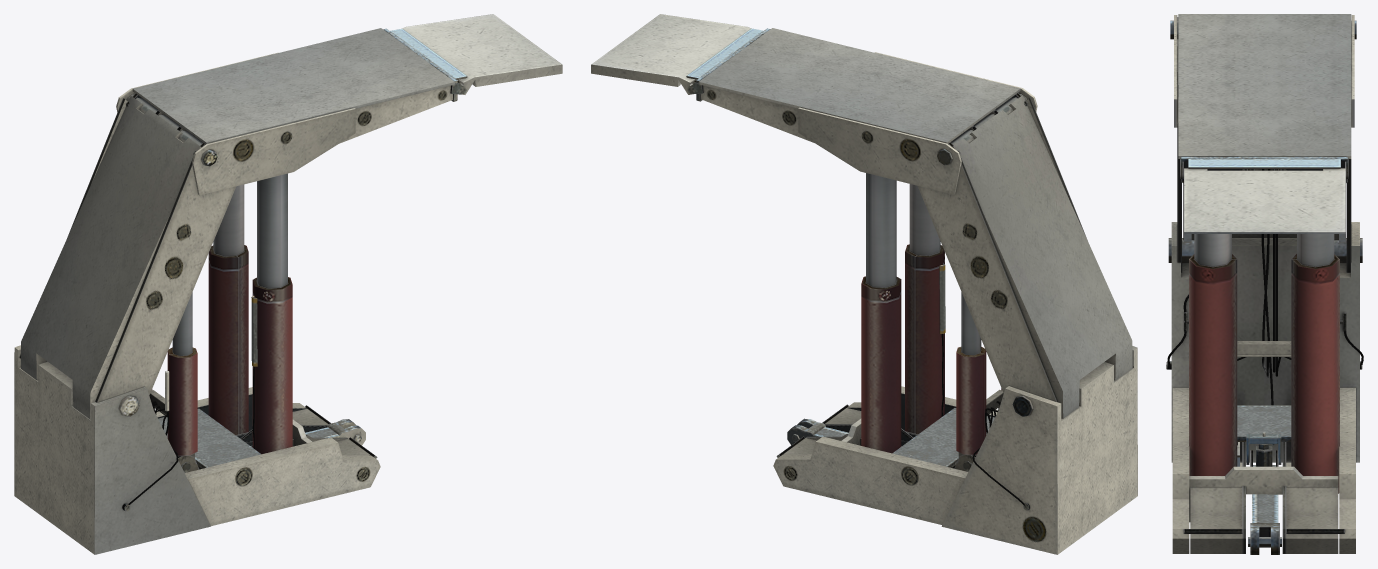
Rendered from HJ_MKTC_006.FBX.
The picture shows the model from 3 angles, left to right: view 1: azimuth 30°, elevation 25°; view 2: azimuth 150°, elevation 25°; view 3: azimuth 270°, elevation 25°; orthographic projection. The views are drawn at different scales.
Parts seen in each view (by area): view 1: HJ_MKTC_006; view 2: HJ_MKTC_006; view 3: HJ_MKTC_006.
Part boxes in pixels (x1,y1,x2,y2): HJ_MKTC_006: (14, 14, 562, 554); HJ_MKTC_006: (591, 14, 1137, 554); HJ_MKTC_006: (1166, 14, 1363, 554).
Size of the model in its own units: 5.81 by 4.49 by 1.79.
1 material, 1 textured.
